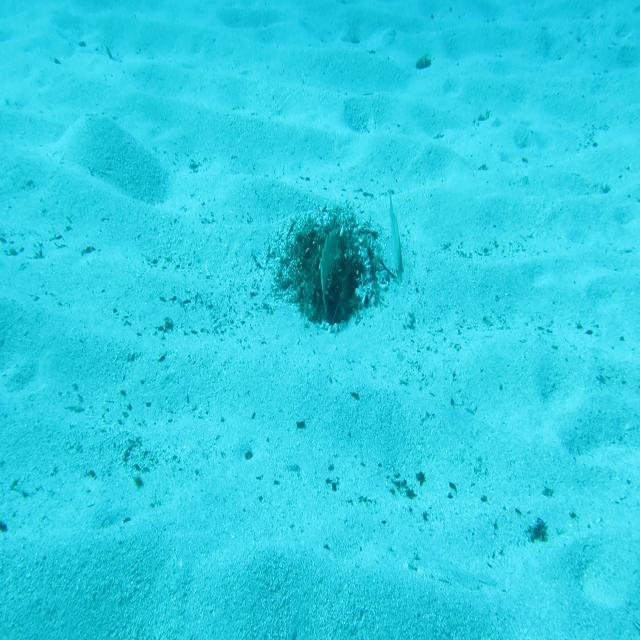LF: (316, 223, 344, 320)
female: (383, 189, 406, 287)
nest: (261, 213, 392, 334)
